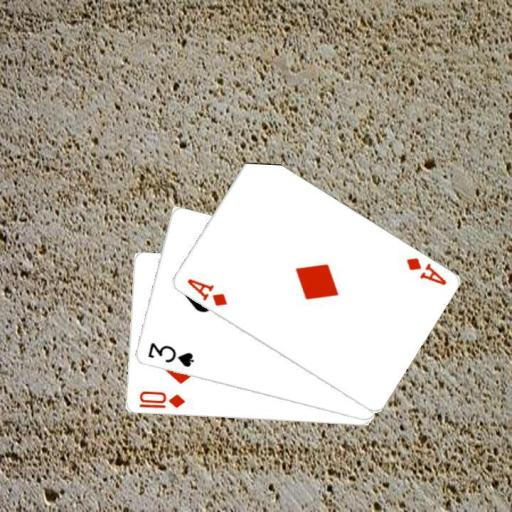10D: (135, 389, 186, 411)
3S: (144, 339, 195, 369)
AD: (184, 275, 229, 308), (403, 255, 448, 287)
